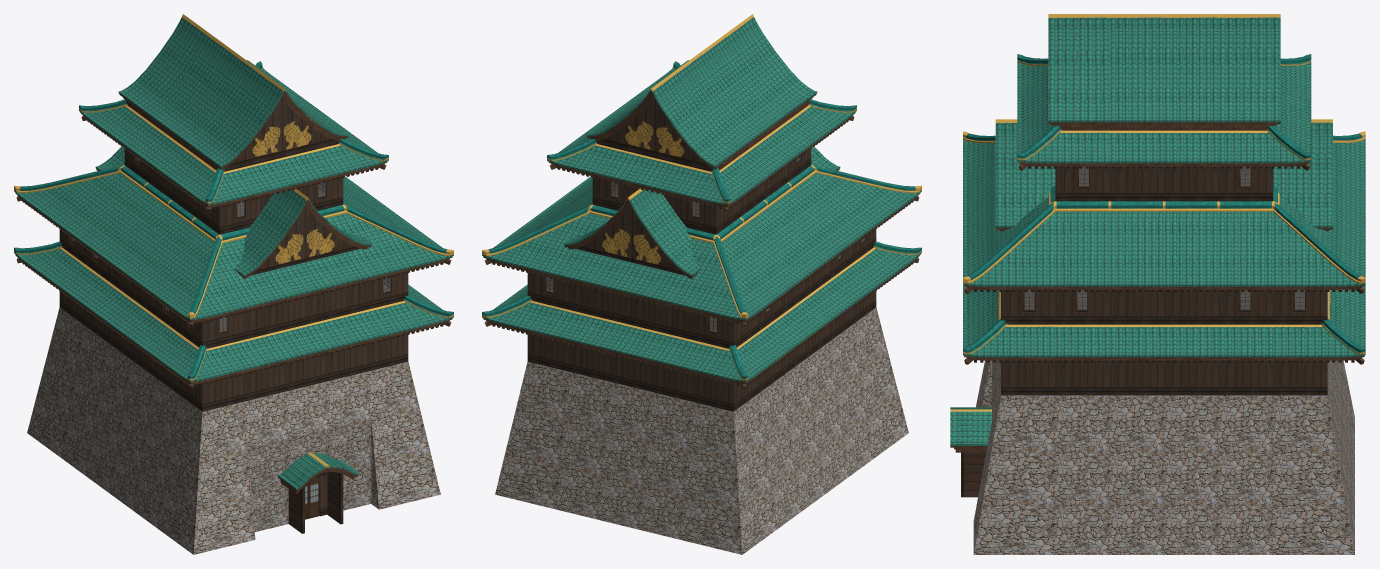
File: city_hall.glb
3 views of the same model, side by side, from view 1: azimuth 30°, elevation 25°; view 2: azimuth 150°, elevation 25°; view 3: azimuth 270°, elevation 25° (orthographic). The views are drawn at different scales.
Visible parts, largest first — view 1: roof, walls; view 2: roof, walls; view 3: roof, walls.
Part boxes in pixels (box(x1,y1,x2,y2)): roof: box(14, 14, 453, 533); walls: box(27, 149, 440, 554); roof: box(482, 14, 921, 389); walls: box(495, 149, 908, 554); roof: box(950, 14, 1365, 497); walls: box(973, 166, 1354, 554).
Bounding box in the file's own units: 1.73 × 2.58 × 2.06.
Materials: 2 (2 with a texture image).
